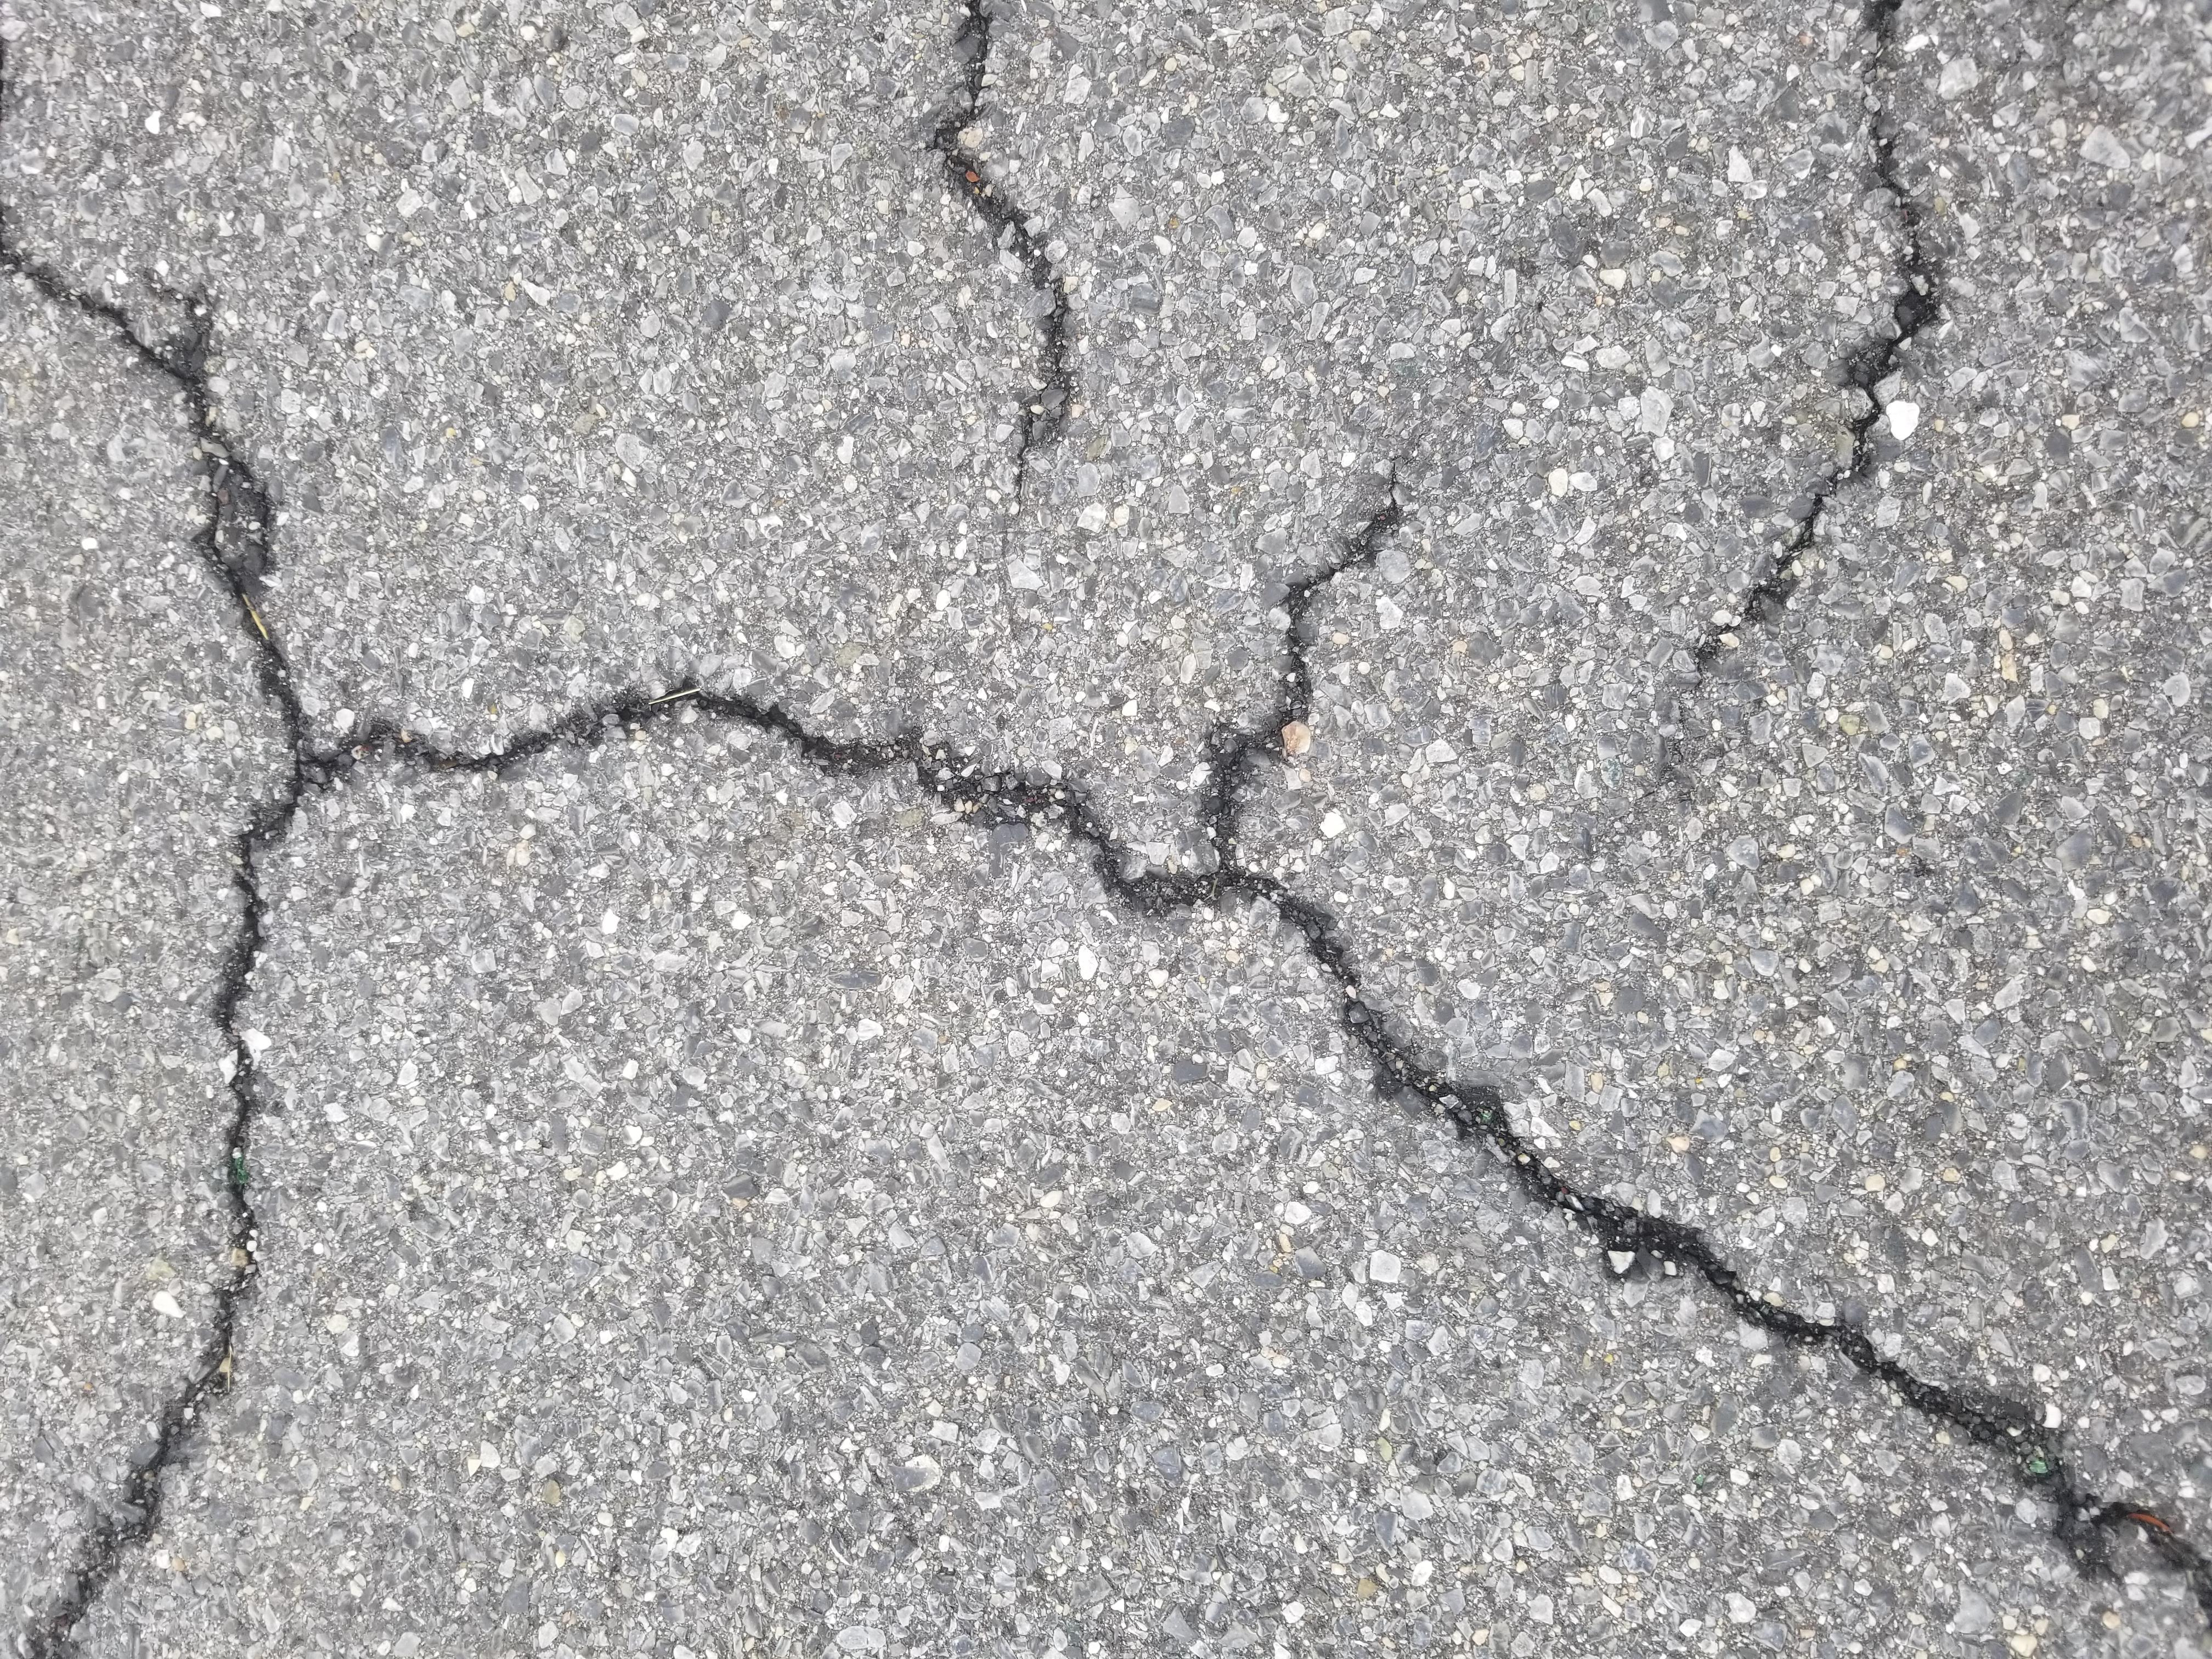crack: (23, 260, 1526, 1642), (0, 16, 2022, 235), (1602, 1312, 2207, 1525), (1616, 650, 2191, 823)
